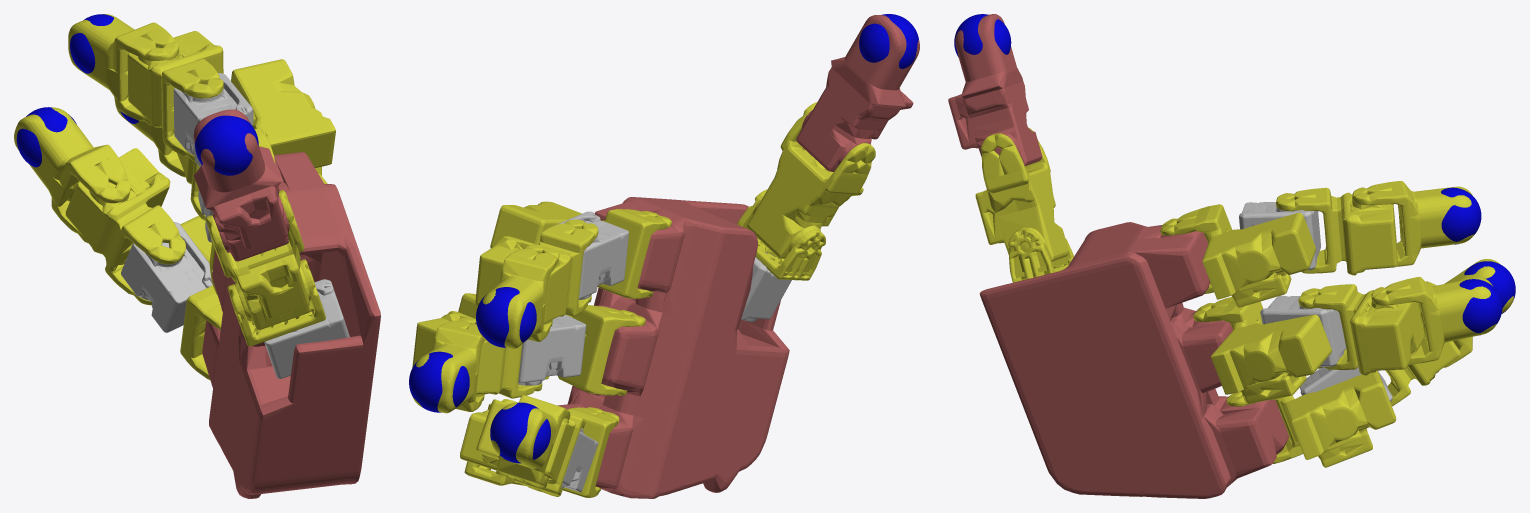
Rendered from hand.glb.
3 views of the same model, side by side, from view 1: azimuth 30°, elevation 25°; view 2: azimuth 150°, elevation 25°; view 3: azimuth 270°, elevation 25° (orthographic). The views are drawn at different scales.
Visible parts, largest first — view 1: world; view 2: world; view 3: world.
Boxes of the visible parts, x1=… form: world: x1=14, y1=14, x2=380, y2=498; world: x1=409, y1=14, x2=919, y2=498; world: x1=948, y1=14, x2=1515, y2=498.
Bounding box in the file's own units: 0.1457 × 0.2164 × 0.2667.
